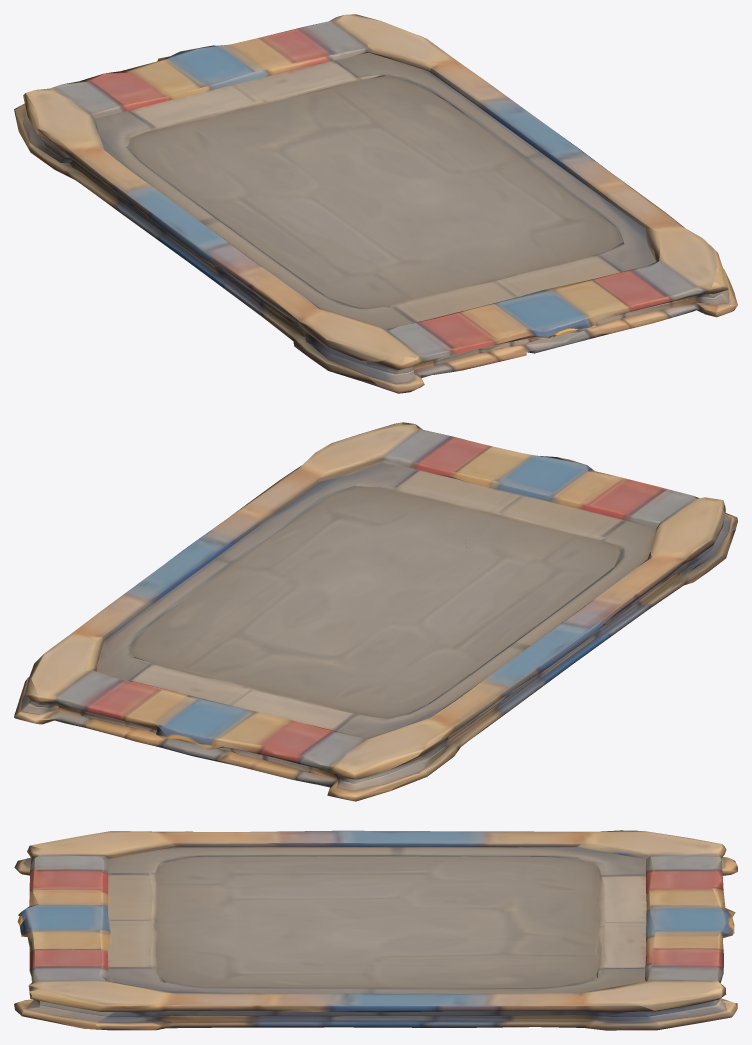
Rendered from ENV-01.glb.
The picture shows the model from 3 angles, top to bottom: view 1: azimuth 30°, elevation 25°; view 2: azimuth 150°, elevation 25°; view 3: azimuth 270°, elevation 25°; orthographic projection. The views are drawn at different scales.
Parts seen in each view (by area): view 1: ENV-01; view 2: ENV-01; view 3: ENV-01.
Boxes of the visible parts, left/top/right/bottom form: ENV-01: left=14, top=14, right=737, bottom=393; ENV-01: left=14, top=422, right=737, bottom=801; ENV-01: left=14, top=830, right=737, bottom=1030.
Bounding box in the file's own units: 20.5 × 1.25 × 34.5.
1 material, 1 textured.
